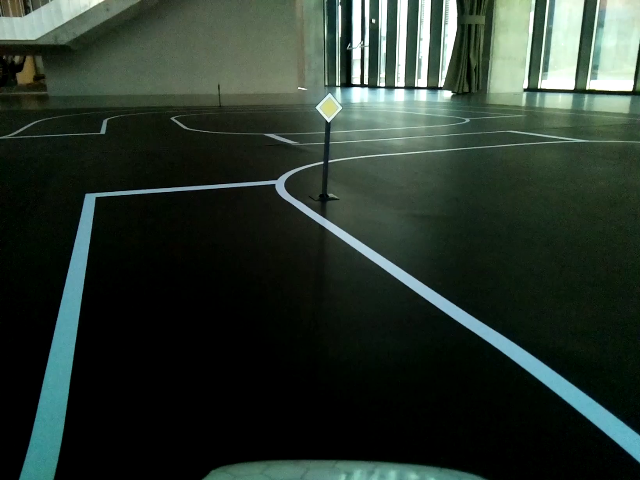priority: (316, 94, 341, 122)
